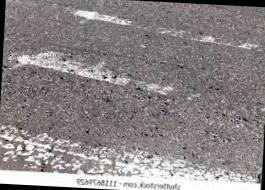faded_road_lines: (8, 45, 265, 117), (0, 124, 263, 185), (68, 7, 265, 53)
